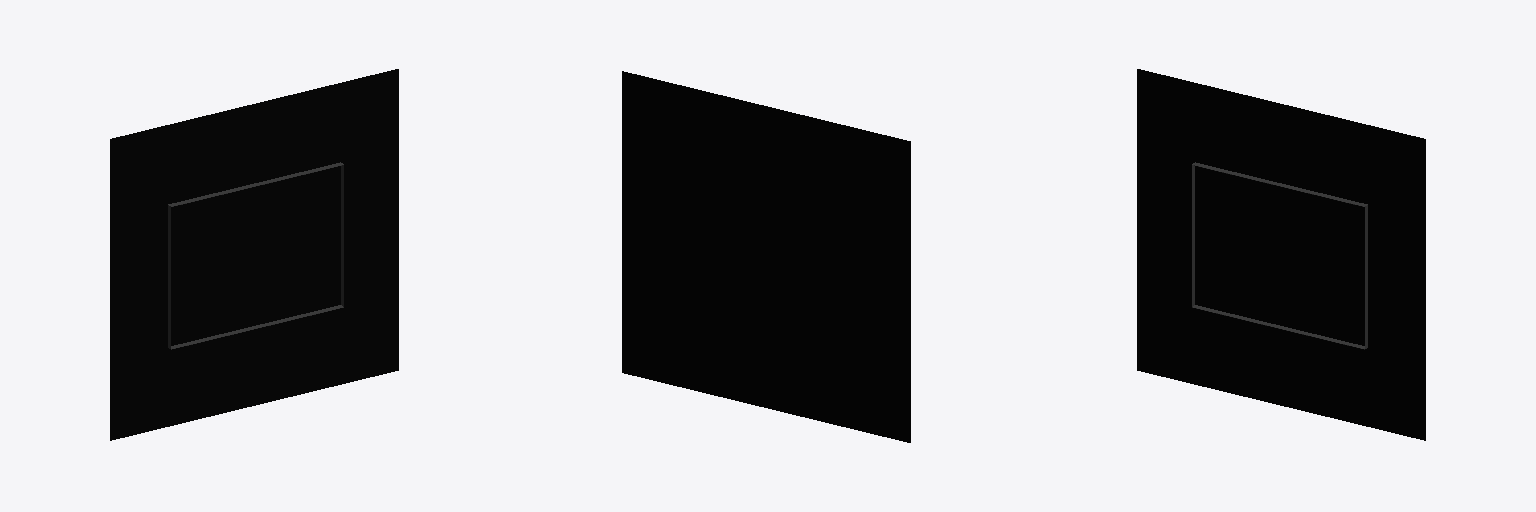
File: flatgrass_BSP_Scaled.obj
3 views of the same model, side by side, from view 1: azimuth 30°, elevation 25°; view 2: azimuth 150°, elevation 25°; view 3: azimuth 330°, elevation 25° (orthographic).
Parts seen in each view (by area): view 1: 01_Ground, 04_Barrier, 02_Barrier; view 2: 01_Ground; view 3: 01_Ground, 04_Barrier, 02_Barrier.
Part boxes in pixels (left/top/right/bottom): 01_Ground: left=110, top=69, right=398, bottom=440; 04_Barrier: left=168, top=162, right=343, bottom=206; 02_Barrier: left=171, top=305, right=343, bottom=349; 01_Ground: left=622, top=71, right=910, bottom=442; 01_Ground: left=1137, top=69, right=1425, bottom=440; 04_Barrier: left=1192, top=162, right=1367, bottom=206; 02_Barrier: left=1192, top=305, right=1364, bottom=349.
Size of the model in its own units: 500 by 500 by 10.25.